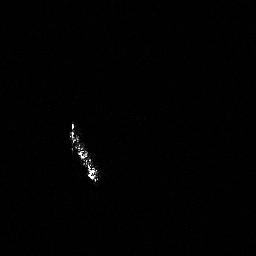ship: (63, 119, 104, 184)
